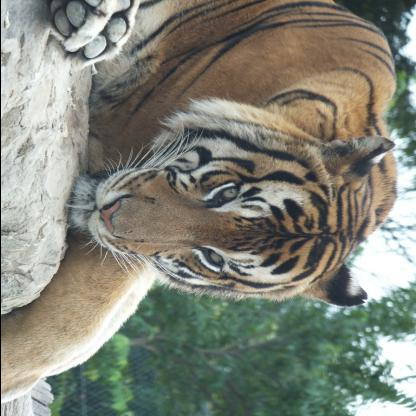tiger: (69, 126, 395, 292)
